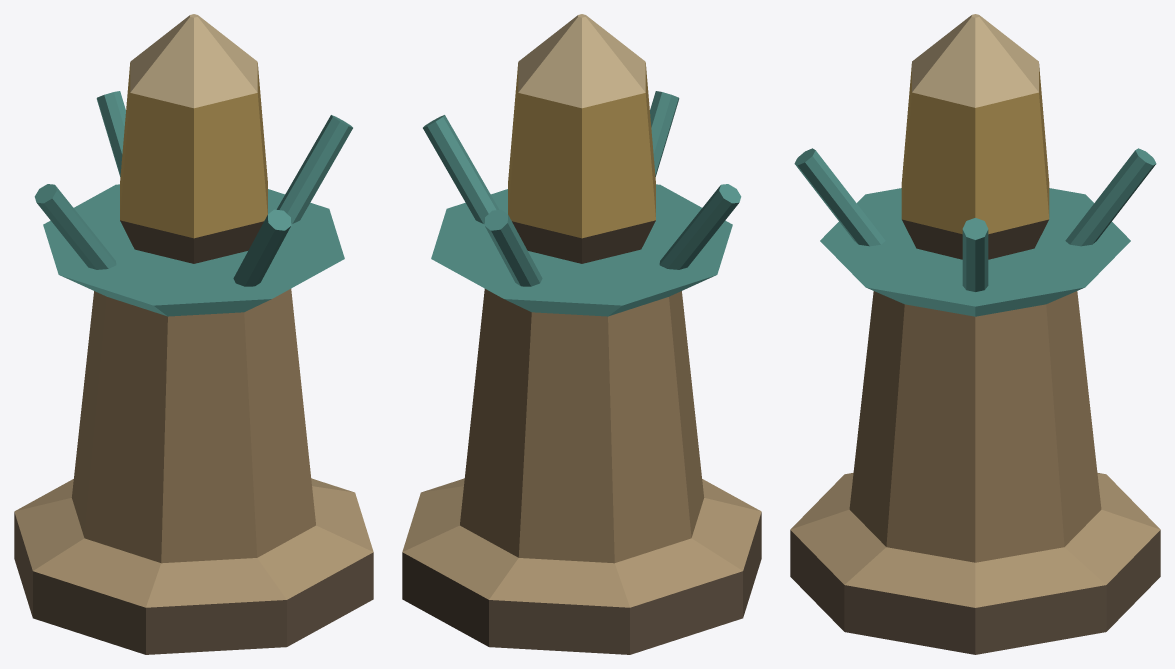
Rendered from beacon-active.glb.
3 views of the same model, side by side, from view 1: azimuth 30°, elevation 25°; view 2: azimuth 150°, elevation 25°; view 3: azimuth 270°, elevation 25° (orthographic).
Visible parts, largest first — view 1: beacon-active__body; view 2: beacon-active__body; view 3: beacon-active__body.
Boxes of the visible parts, <box> form: beacon-active__body: <box>14,14,373,654</box>; beacon-active__body: <box>402,14,761,654</box>; beacon-active__body: <box>790,14,1160,654</box>.
Bounding box in the file's own units: 1 × 1.67 × 1.
